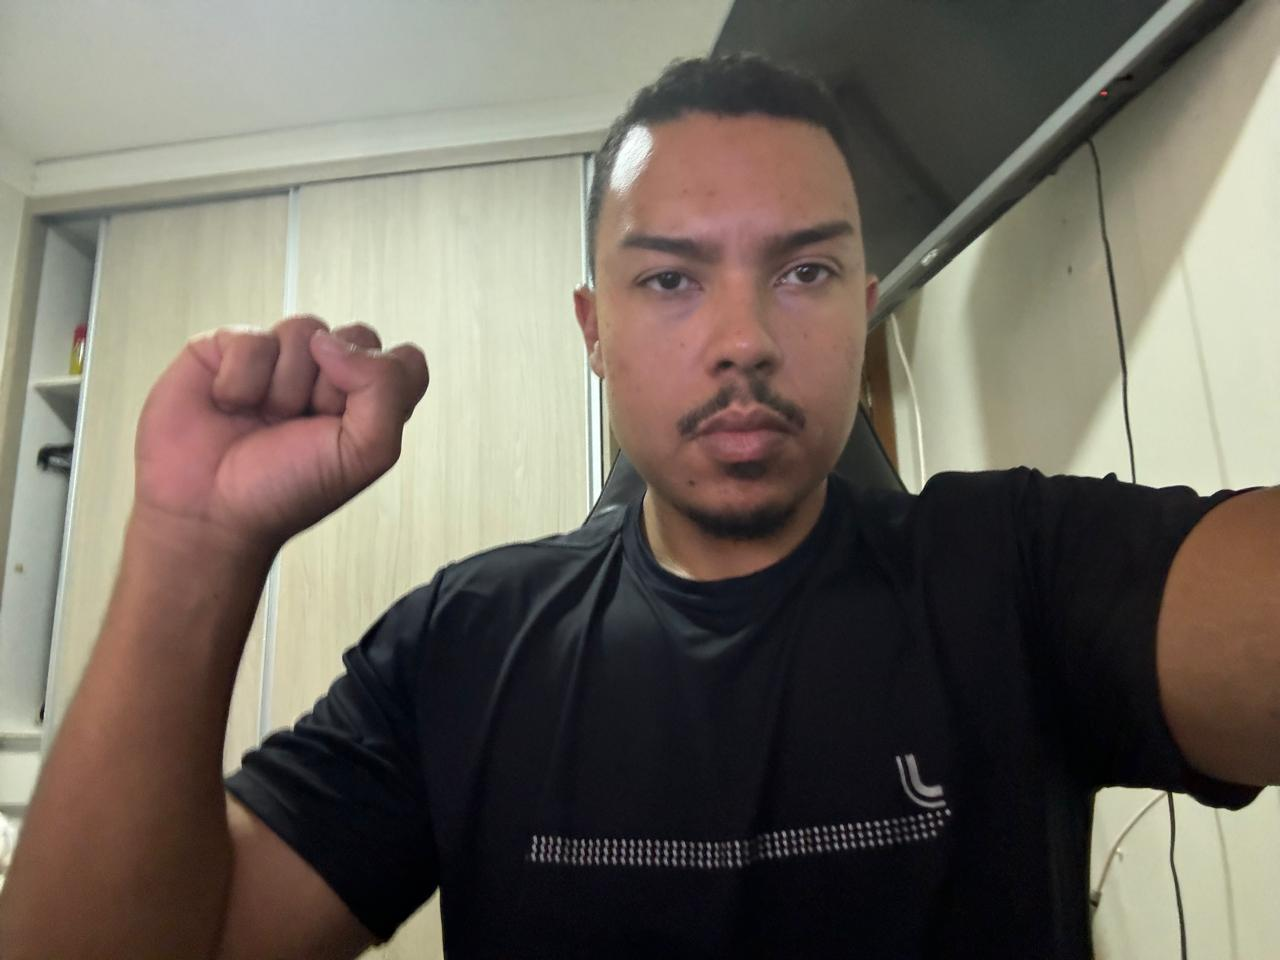s: (115, 287, 443, 556)
